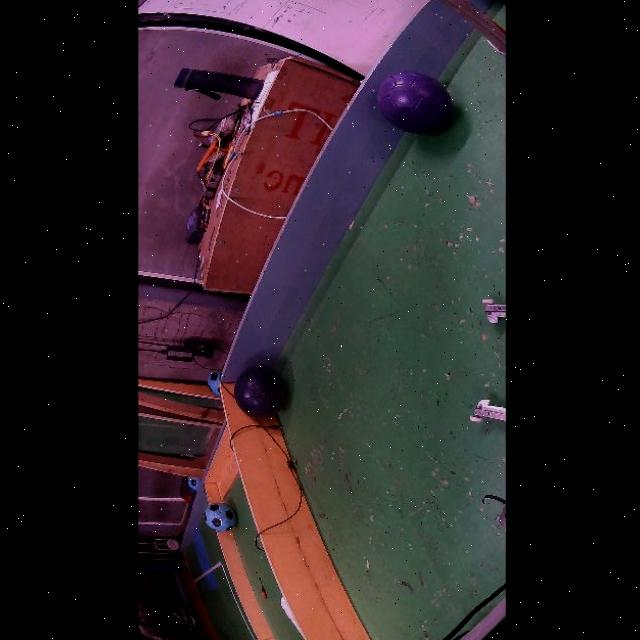B: (233, 367, 285, 419)
P: (378, 72, 452, 134)
